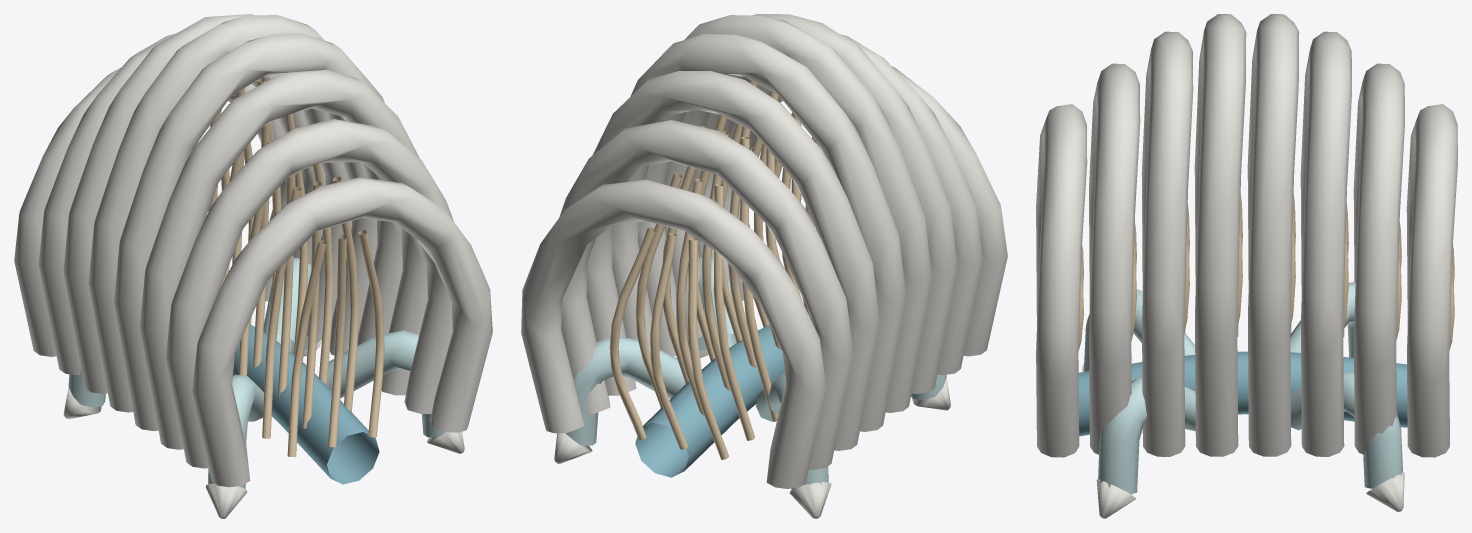
The model's file is bio_blind_harp_05_far.glb.
3 views of the same model, side by side, from view 1: azimuth 30°, elevation 25°; view 2: azimuth 150°, elevation 25°; view 3: azimuth 270°, elevation 25° (orthographic). The views are drawn at different scales.
Parts seen in each view (by area): view 1: Open rib arch, Open rib arch.001, Open rib arch.002, Open rib arch.003, Open rib arch.004, Open rib arch.005, Open rib arch.006, Low axial spine, Open rib arch.007, Resonance filament, Resonance filament.003, Resonance filament.006 (+9 smaller); view 2: Open rib arch.007, Open rib arch.006, Open rib arch.005, Open rib arch.004, Open rib arch.003, Open rib arch.002, Open rib arch.001, Low axial spine, Open rib arch, Resonance filament.021, Resonance filament.018, Resonance filament.015 (+8 smaller); view 3: Open rib arch.003, Open rib arch.004, Open rib arch.005, Open rib arch.002, Open rib arch.006, Open rib arch.001, Open rib arch, Open rib arch.007, Crooked support.003, Low axial spine, Crooked support, Contact spur.003 (+5 smaller).
Part boxes in pixels (x1,y1,x2,y2): Open rib arch: [192, 177, 492, 487]; Open rib arch.001: [166, 119, 453, 468]; Open rib arch.002: [140, 70, 427, 449]; Open rib arch.003: [114, 33, 402, 430]; Open rib arch.004: [88, 15, 377, 412]; Open rib arch.005: [63, 14, 351, 393]; Open rib arch.006: [38, 33, 325, 375]; Low axial spine: [233, 324, 379, 484]; Open rib arch.007: [14, 67, 286, 356]; Resonance filament: [287, 229, 384, 457]; Resonance filament.003: [262, 176, 359, 438]; Resonance filament.006: [238, 140, 333, 397]; Open rib arch.007: [521, 179, 826, 488]; Open rib arch.006: [559, 120, 853, 469]; Open rib arch.005: [586, 71, 879, 450]; Open rib arch.004: [612, 34, 906, 431]; Open rib arch.003: [638, 15, 932, 412]; Open rib arch.002: [665, 14, 957, 393]; Open rib arch.001: [690, 34, 982, 375]; Low axial spine: [635, 325, 784, 477]; Open rib arch: [724, 66, 1007, 356]; Resonance filament.021: [609, 227, 728, 459]; Resonance filament.018: [635, 173, 754, 440]; Resonance filament.015: [662, 126, 778, 421]; Open rib arch.003: [1194, 14, 1246, 456]; Open rib arch.004: [1247, 14, 1299, 456]; Open rib arch.005: [1300, 31, 1351, 456]; Open rib arch.002: [1141, 31, 1193, 456]; Open rib arch.006: [1353, 63, 1404, 454]; Open rib arch.001: [1089, 63, 1140, 454]; Open rib arch: [1036, 104, 1087, 457]; Open rib arch.007: [1406, 104, 1457, 457]; Crooked support.003: [1098, 377, 1195, 494]; Low axial spine: [1078, 351, 1407, 436]; Crooked support: [1290, 372, 1402, 488]; Contact spur.003: [1096, 479, 1135, 518].
Size of the model in its own units: 1.69 by 2.22 by 2.
